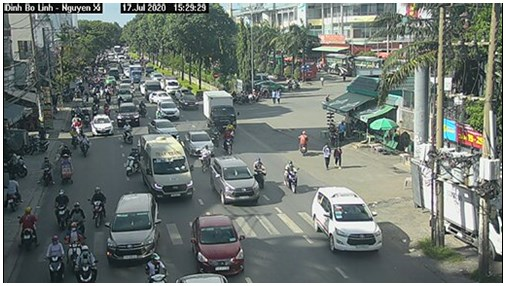di_bo: (320, 140, 331, 175), (333, 144, 346, 170)
xe_hoi: (311, 186, 383, 253), (188, 214, 246, 275), (108, 191, 158, 261), (210, 157, 259, 206), (143, 116, 179, 136), (117, 101, 139, 127), (91, 113, 113, 138), (155, 101, 180, 120)
xe_khach: (139, 134, 196, 202)
xe_may: (44, 234, 65, 283), (74, 245, 98, 283), (63, 222, 82, 268), (18, 205, 37, 250), (88, 183, 106, 228), (53, 187, 69, 229), (122, 145, 142, 177), (68, 201, 85, 236), (283, 160, 301, 193), (38, 155, 53, 190), (254, 157, 267, 189), (118, 121, 133, 144), (298, 129, 310, 157), (201, 143, 212, 173), (222, 130, 235, 155), (79, 135, 89, 159)
xe_tai: (201, 90, 238, 131)
